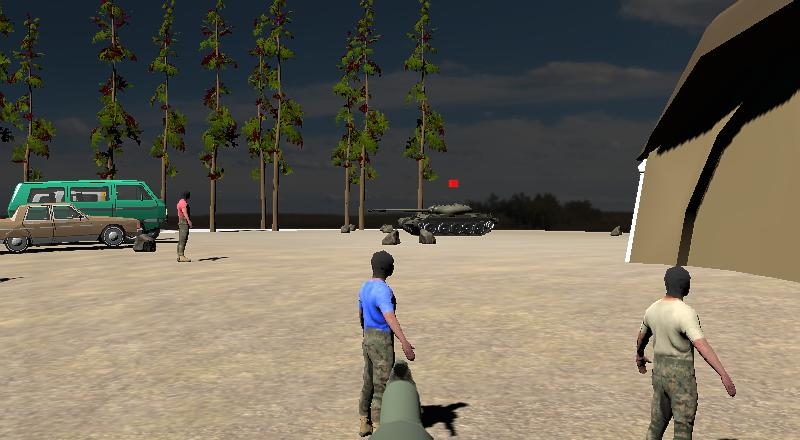Human: (634, 263, 737, 440), (358, 249, 416, 438), (176, 188, 193, 263)
Tank: (368, 202, 499, 237)
car: (0, 204, 141, 250), (69, 179, 167, 235), (8, 181, 113, 230)
